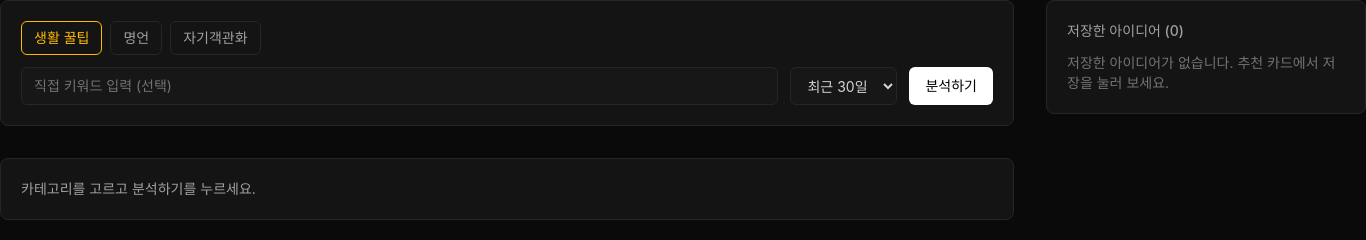
Scenario: Dashboard › 에러 › 응답 JSON을 파싱하지 못하면 기본 에러 message를 보여 준다
The width and height of the screenshot is (1366, 240).
Click the button "분석하기" at (951, 86), box [910,67,993,105]
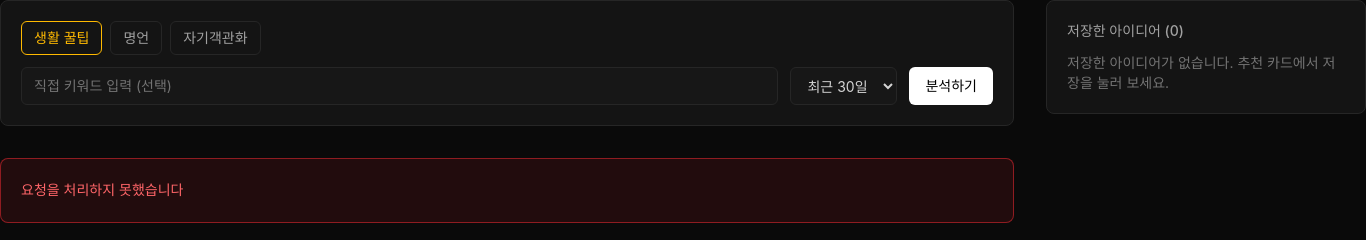
Check: the message reads "요청을 처리하지 못했습니다", box [21,181,183,198]
